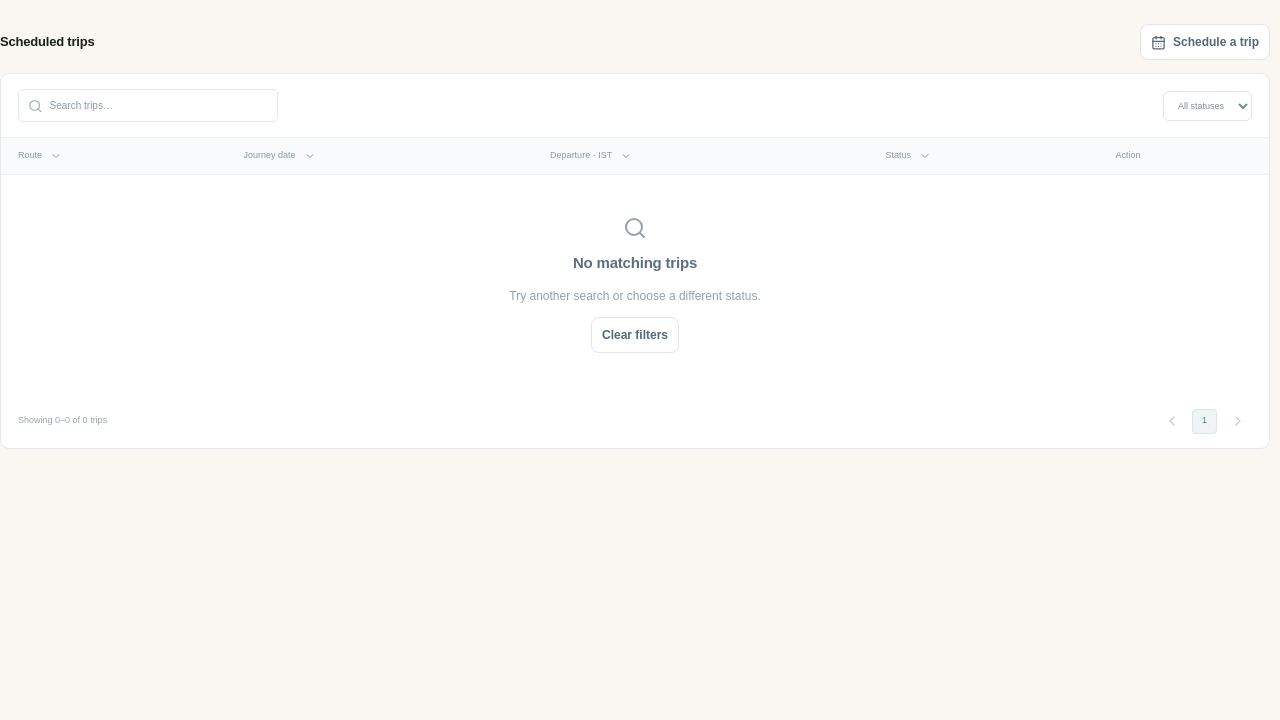
accepts separate double and single fares while scheduling and requires both prices
Later steps or results of the test are not shown.
Click the button "Schedule a trip": (1205, 42) [1140, 24, 1270, 60]
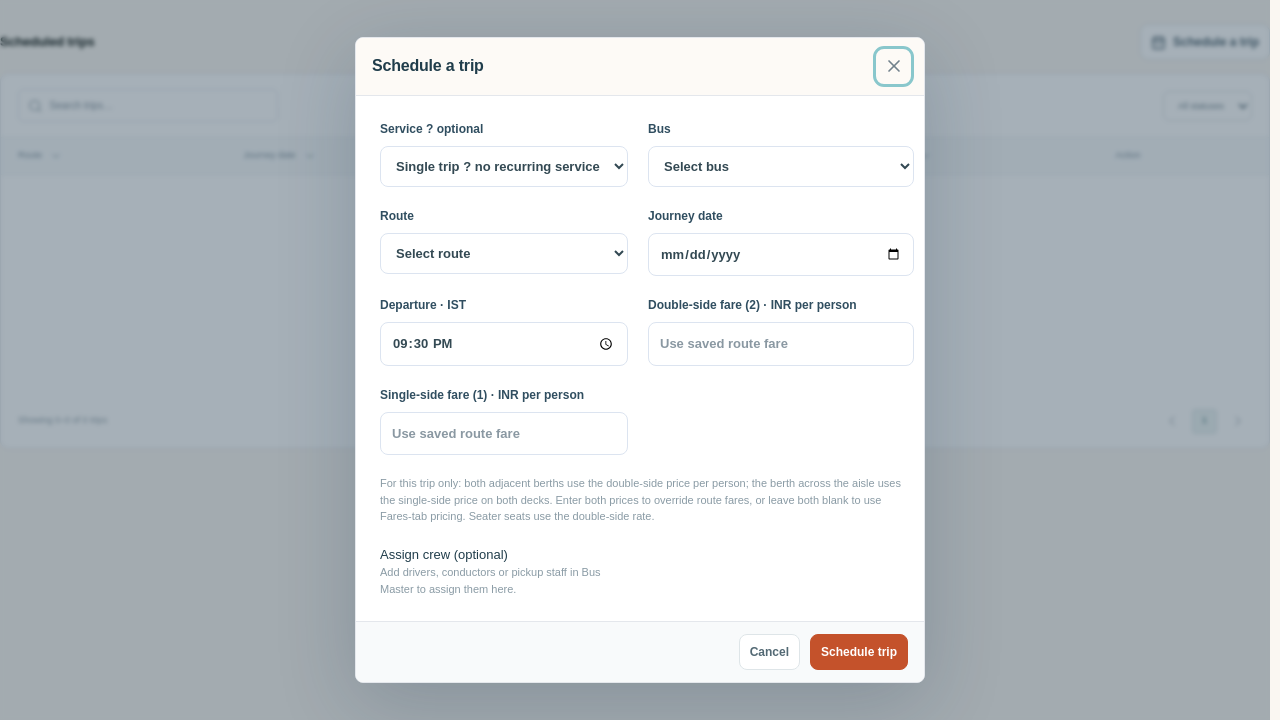
Select "MP04YM7789 · Choudhary's Travels" in the dropdown labelled "Bus": (781, 166) [648, 146, 914, 187]
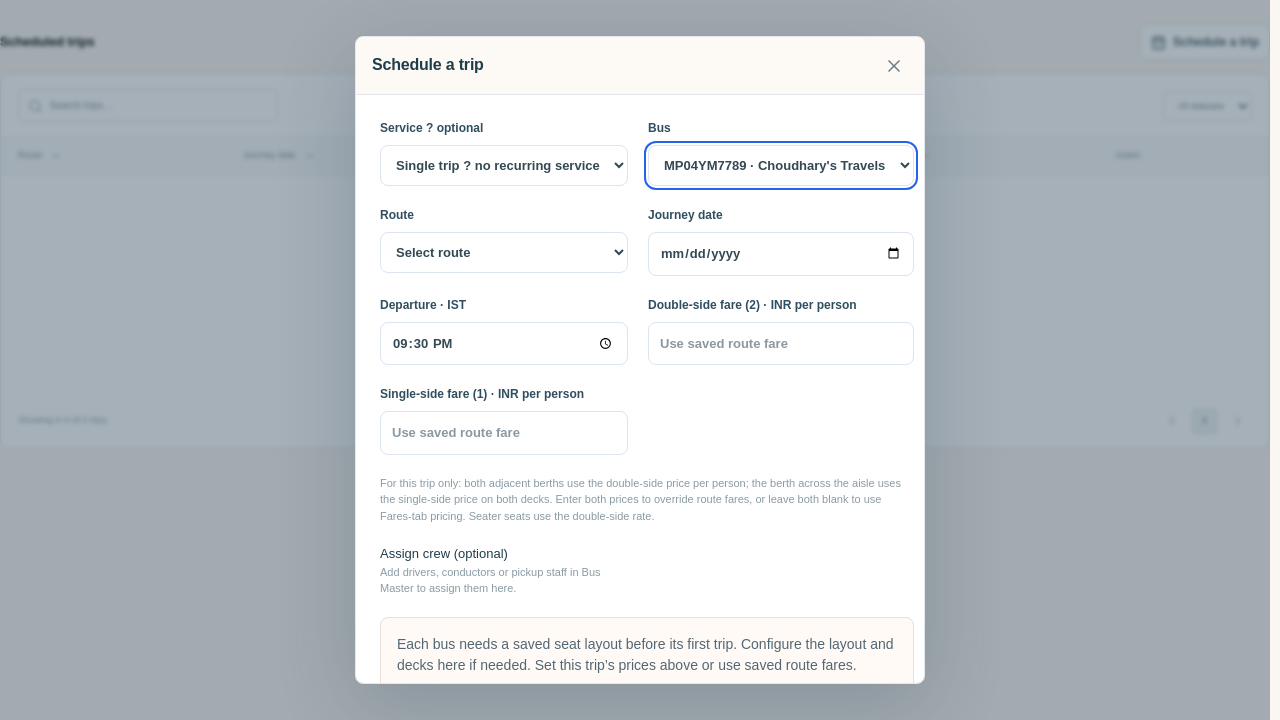
Select "Pune → Bhopal" in the dropdown labelled "Route": (504, 252) [380, 232, 628, 273]
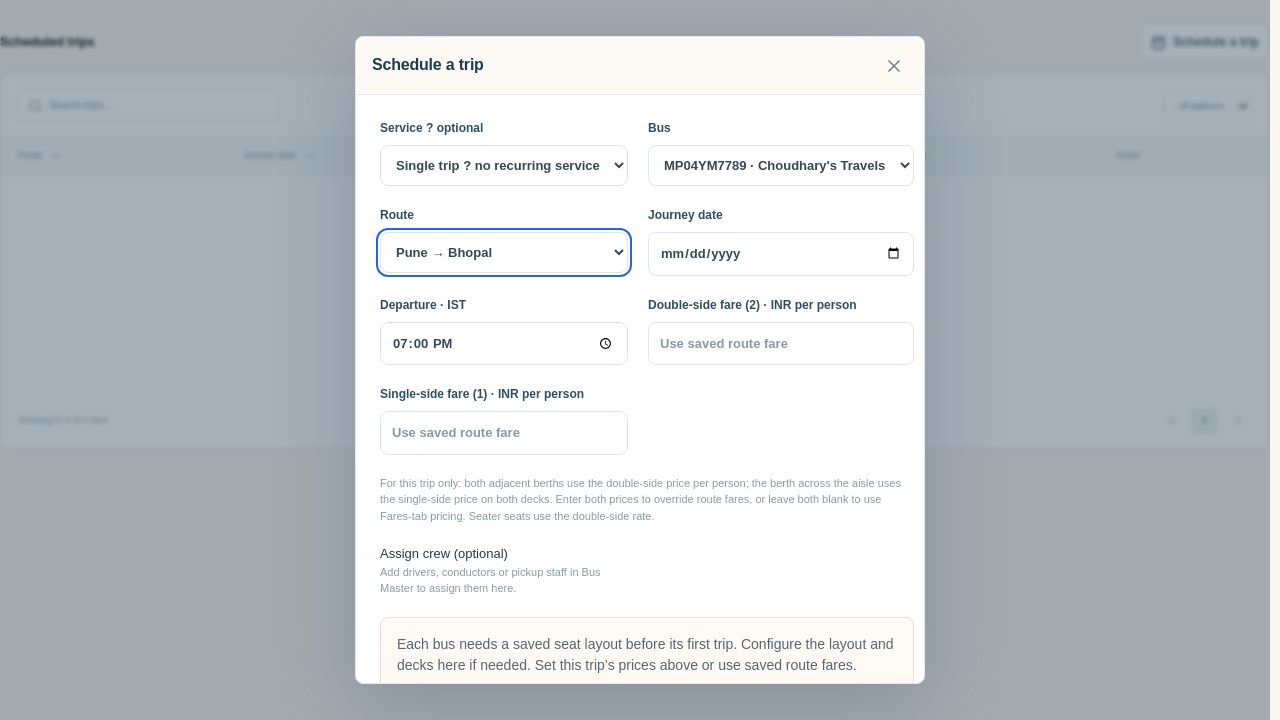
In the date field labelled "Journey date": (781, 254) [648, 232, 914, 276], type "2026-11-16"
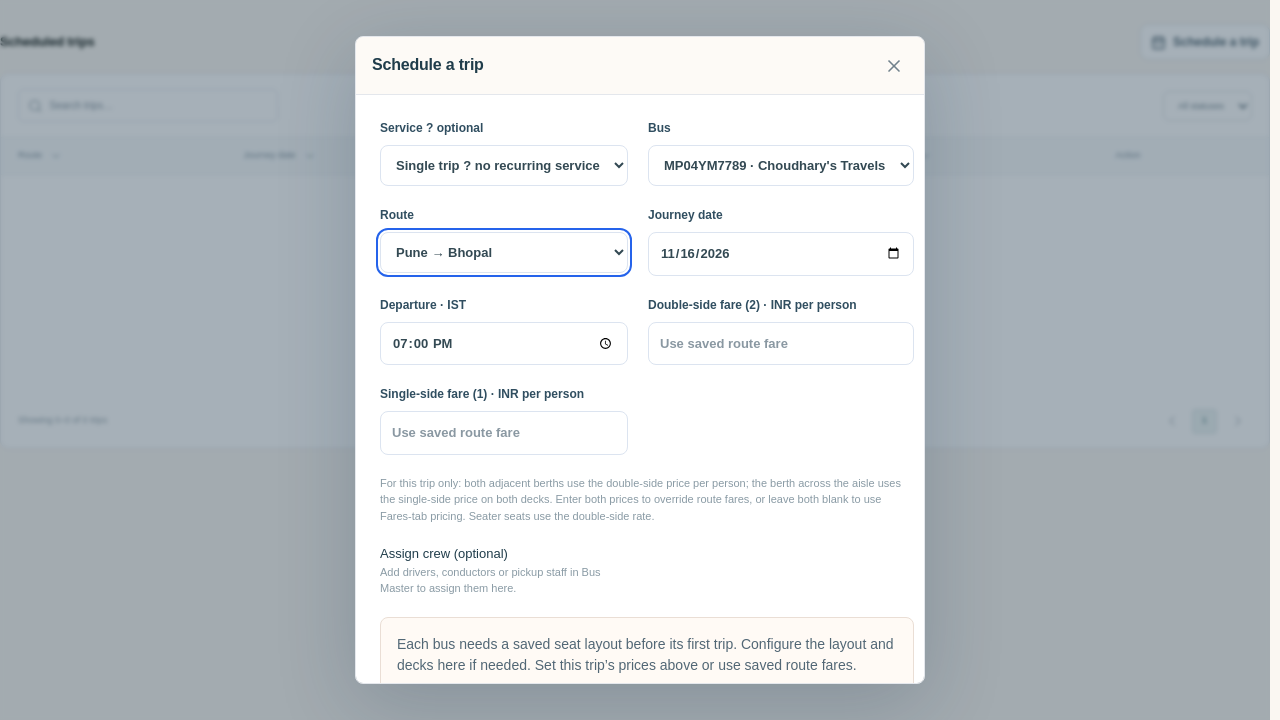
In the number field labelled "Double-side fare (2) · INR per person": (781, 343) [648, 322, 914, 365], type "2200"
(page scrolled)
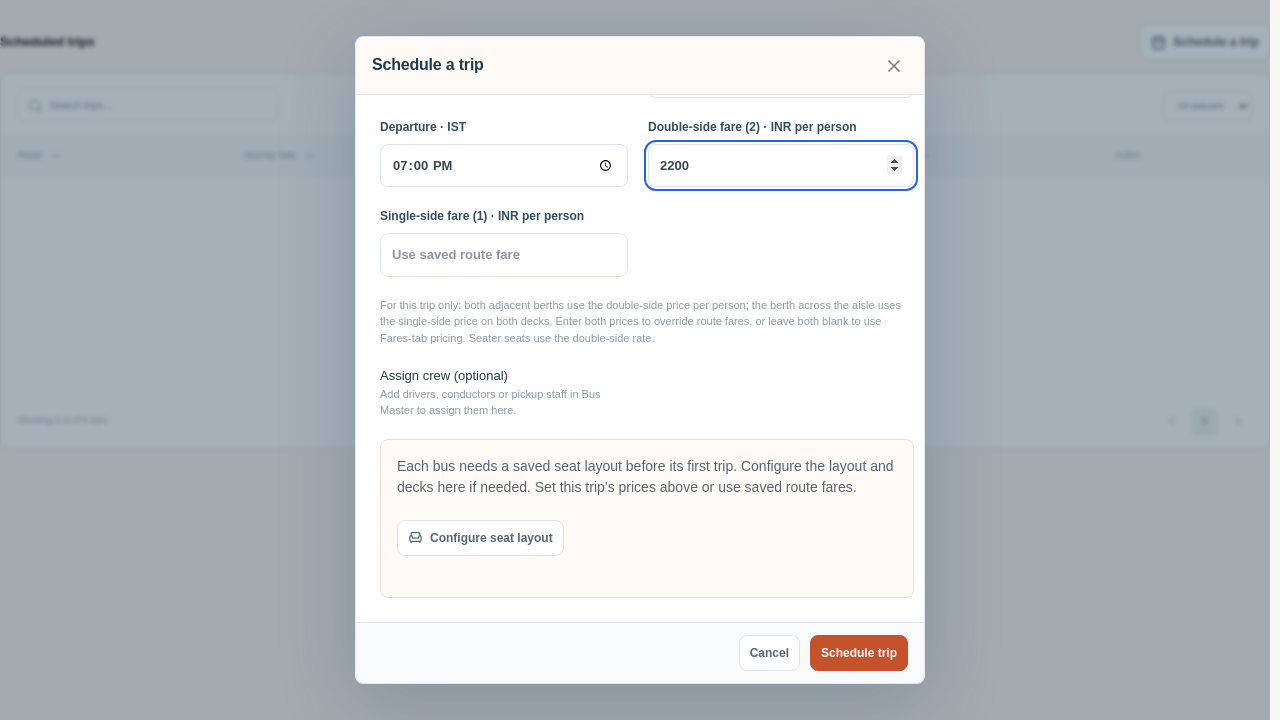
Click the button "Schedule trip": (859, 653) [810, 635, 908, 671]
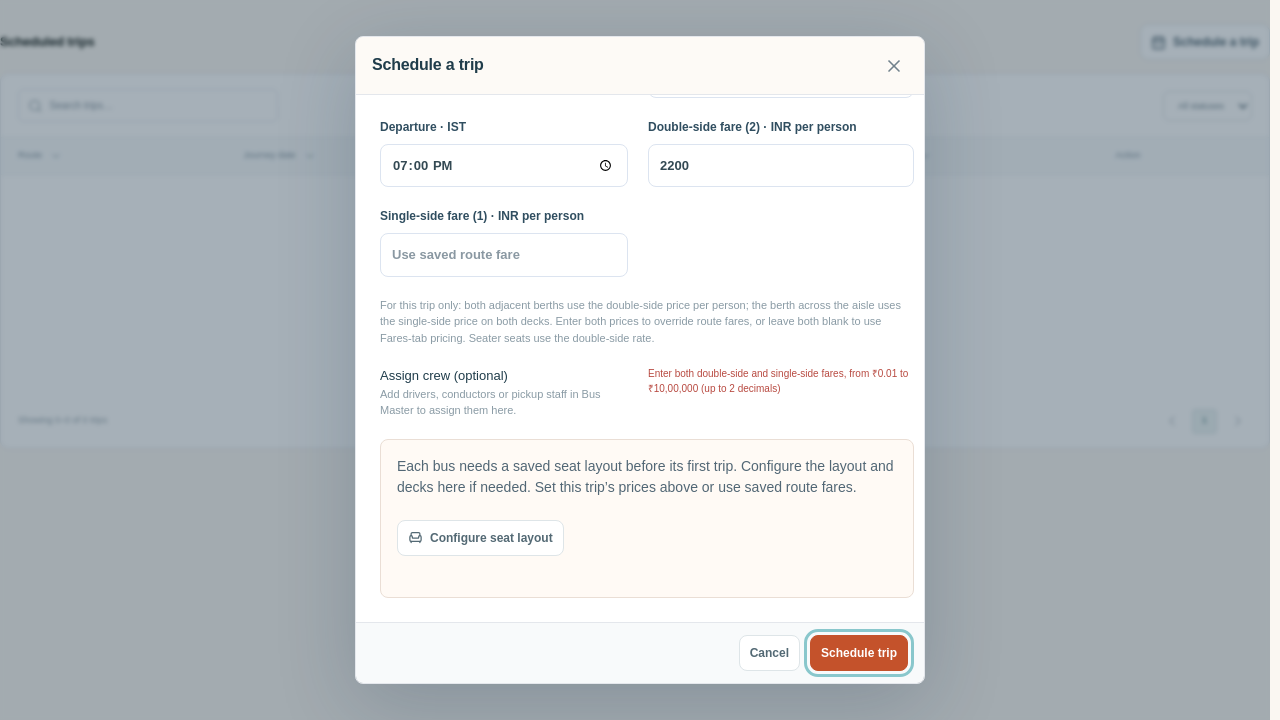
Now the message shows "Enter both", box [648, 368, 908, 394]
